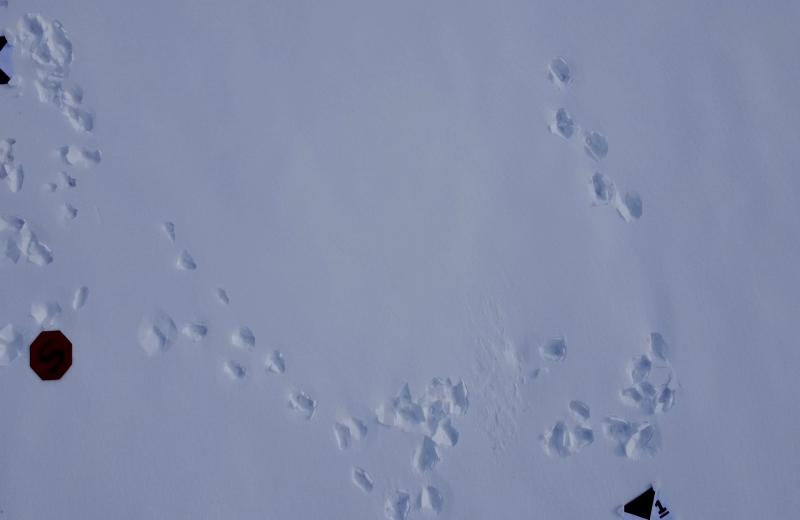Octagon: (28, 329, 74, 382)
